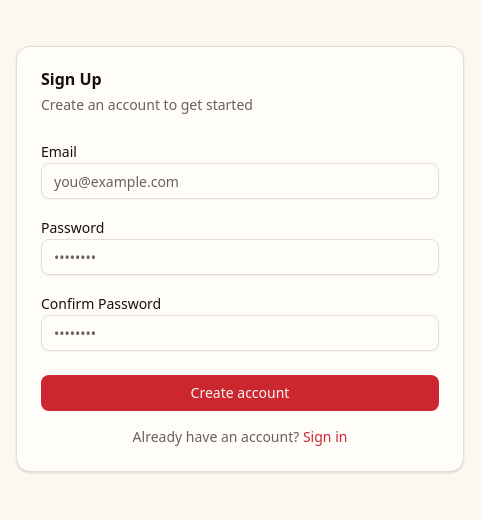
Test case: Signup › shows error when password is too short
Step 1. Type "test@example.com" into the field labelled "Email" → (240, 181), box [41, 163, 439, 199]
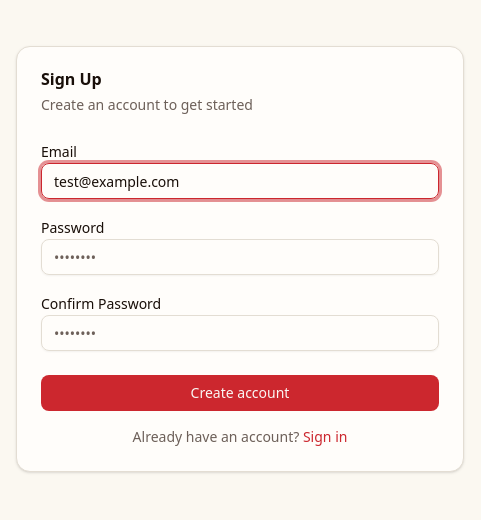
Step 2. Type "12345" into the password field labelled "Password" → (240, 257), box [41, 239, 439, 275]
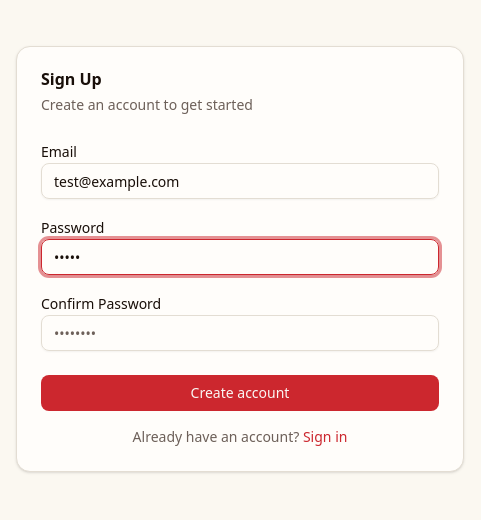
Step 3. Type "12345" into the password field labelled "Confirm Password" → (240, 333), box [41, 315, 439, 351]
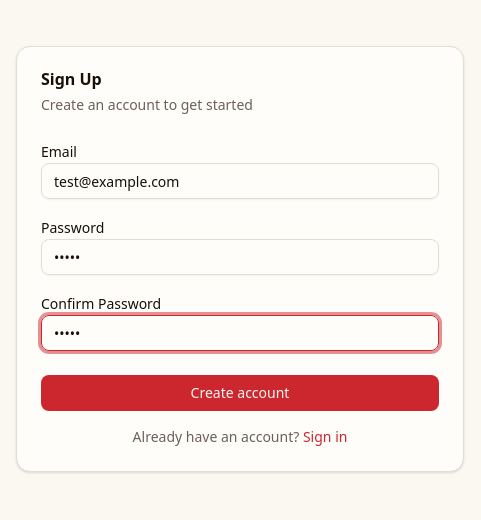
Step 4. Click the button "Create account" → (240, 393), box [41, 375, 439, 411]
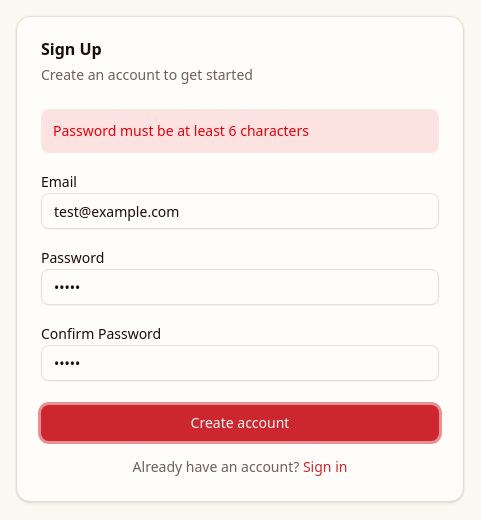
Now the text "Password must be at least 6 characters" is shown, box [41, 109, 439, 153]
